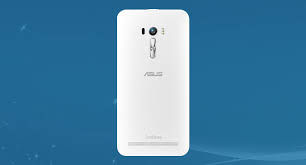asus: (113, 8, 193, 159)
